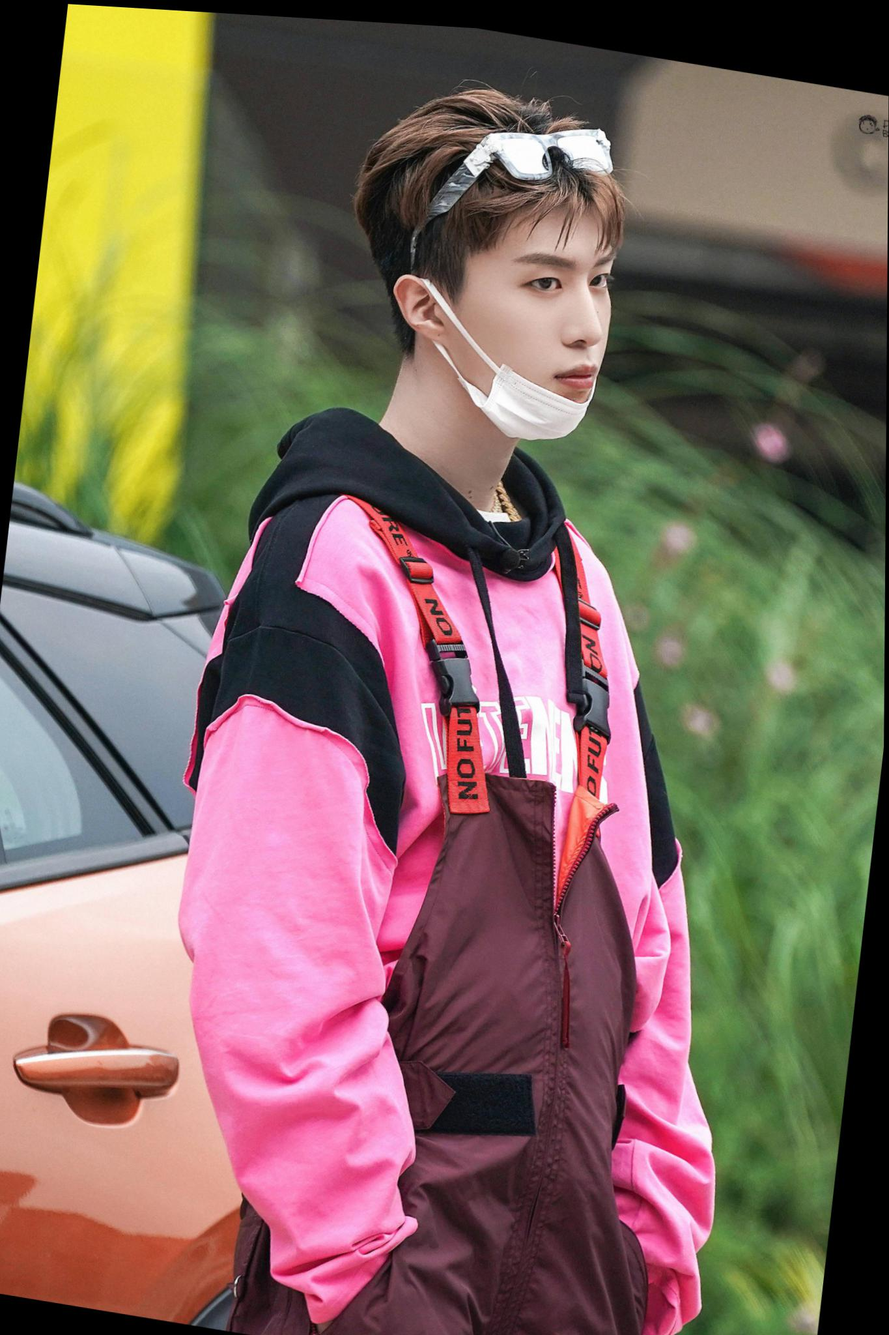WRONG: (443, 198, 619, 436)
